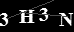3: (38, 7, 48, 22), (1, 12, 8, 27)
H: (17, 9, 35, 24)
N: (57, 12, 74, 27)
